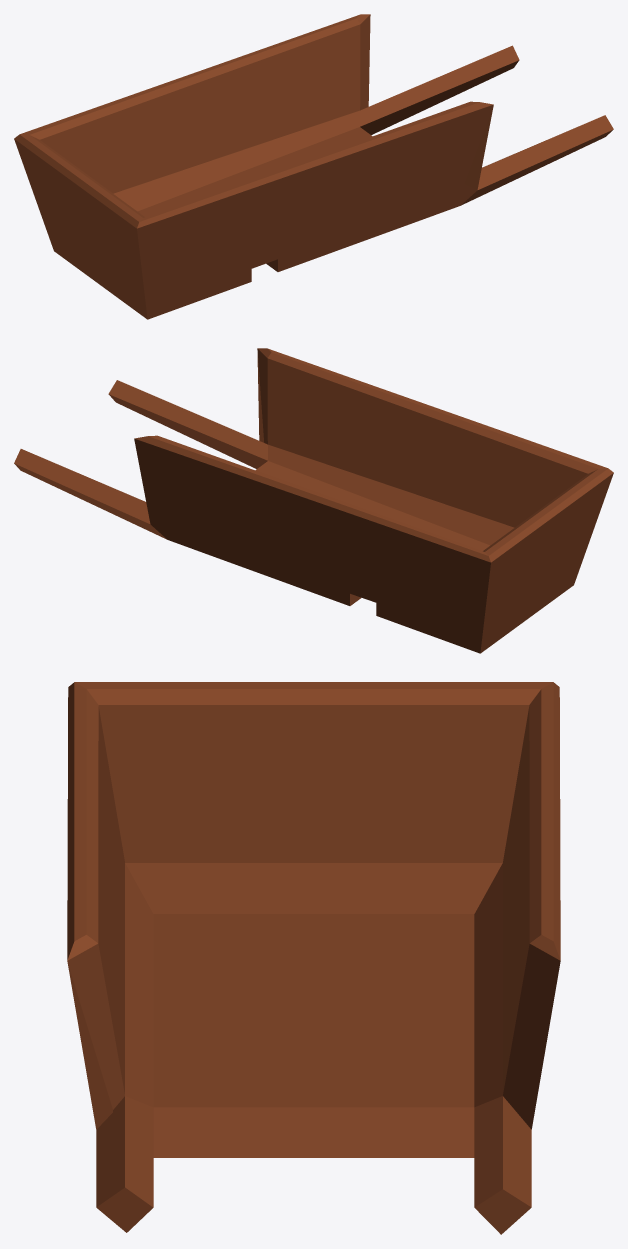
Rendered from Wooden Cart.fbx.
3 views of the same model, one above another, from view 1: azimuth 30°, elevation 25°; view 2: azimuth 150°, elevation 25°; view 3: azimuth 270°, elevation 25° (orthographic). The views are drawn at different scales.
Visible parts, largest first — view 1: Cube; view 2: Cube; view 3: Cube.
Part boxes in pixels (left/top/right/bottom): Cube: left=14, top=14, right=613, bottom=319; Cube: left=14, top=348, right=613, bottom=653; Cube: left=67, top=682, right=560, bottom=1234.
Bounding box in the file's own units: 271 × 79.59 × 119.
